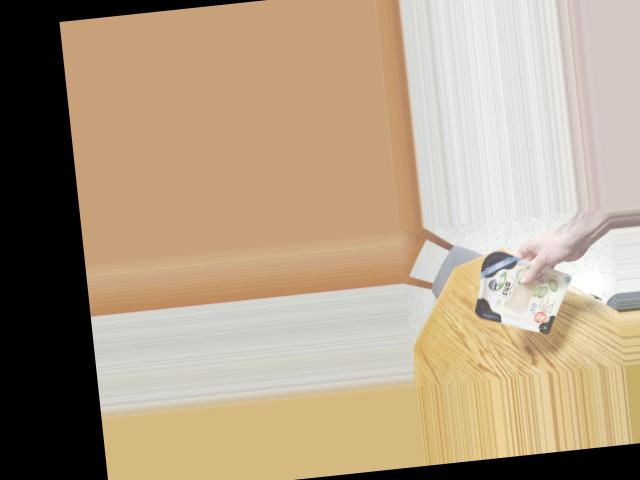cheese: (465, 249, 560, 337)
